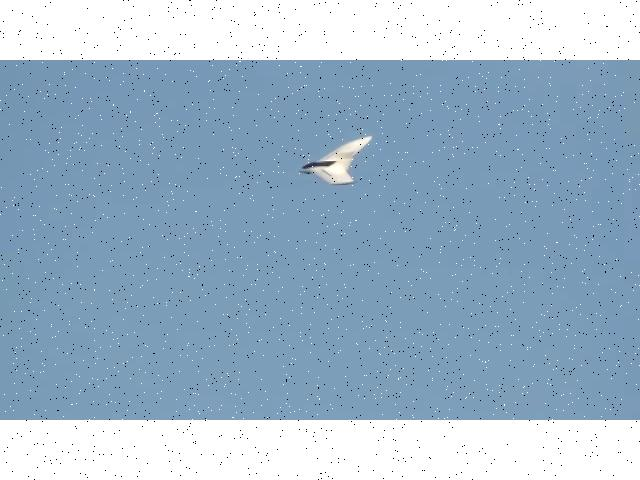Anti-Drone: (300, 136, 372, 184)
